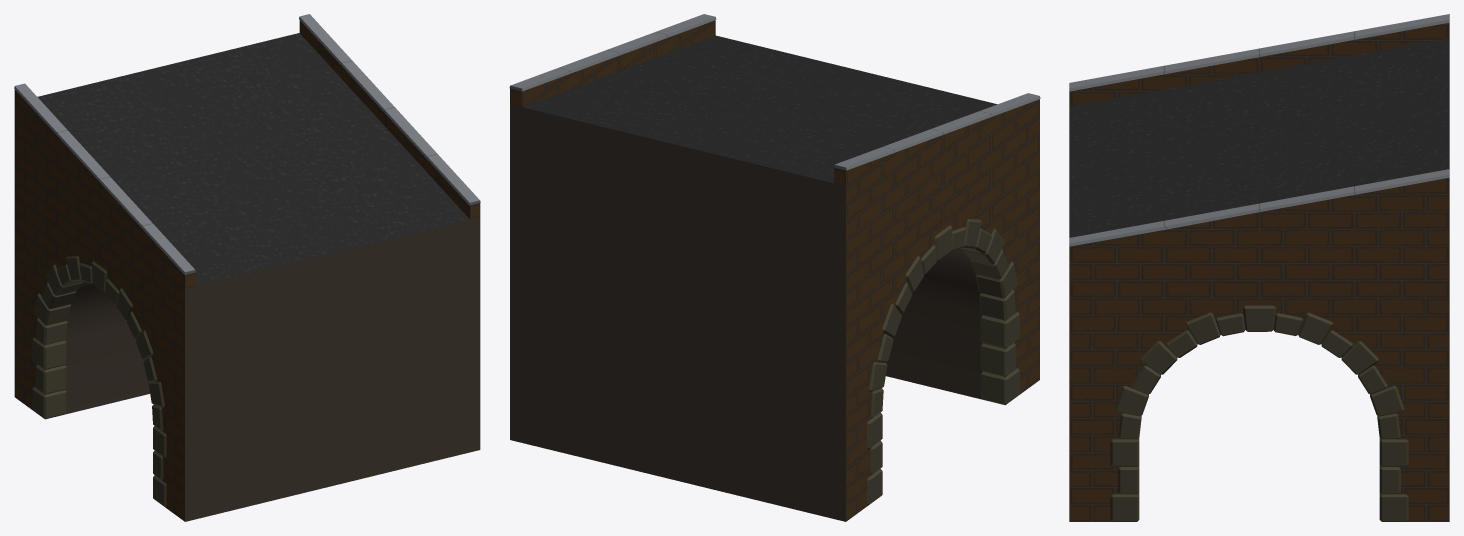
Rendered from SW_ENV_WalledRiser_DoubleTrack.fbx.
3 renders of one model, left to right at view 1: azimuth 30°, elevation 25°; view 2: azimuth 150°, elevation 25°; view 3: azimuth 270°, elevation 25°, orthographic. The views are drawn at different scales.
Parts seen in each view (by area): view 1: SW_ENV_WalledRiser_DoubleTrack; view 2: SW_ENV_WalledRiser_DoubleTrack; view 3: SW_ENV_WalledRiser_DoubleTrack.
Part boxes in pixels (left/top/right/bottom): SW_ENV_WalledRiser_DoubleTrack: left=14, top=14, right=480, bottom=521; SW_ENV_WalledRiser_DoubleTrack: left=509, top=14, right=1040, bottom=521; SW_ENV_WalledRiser_DoubleTrack: left=1069, top=14, right=1449, bottom=521.
Size of the model in its own units: 10.12 by 10.08 by 10.
